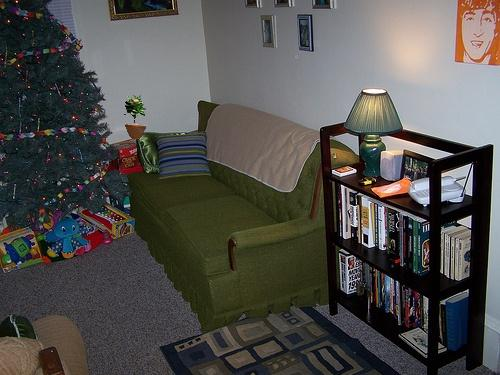tampered: (125, 96, 146, 139)
